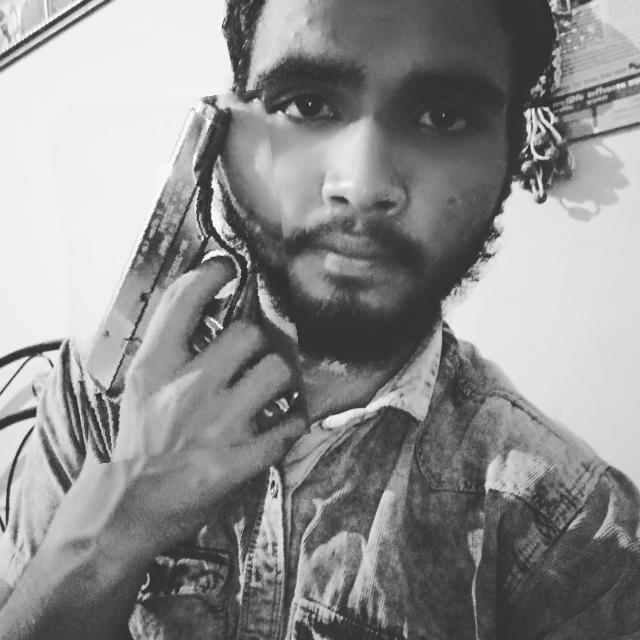rifle: (83, 97, 231, 392)
